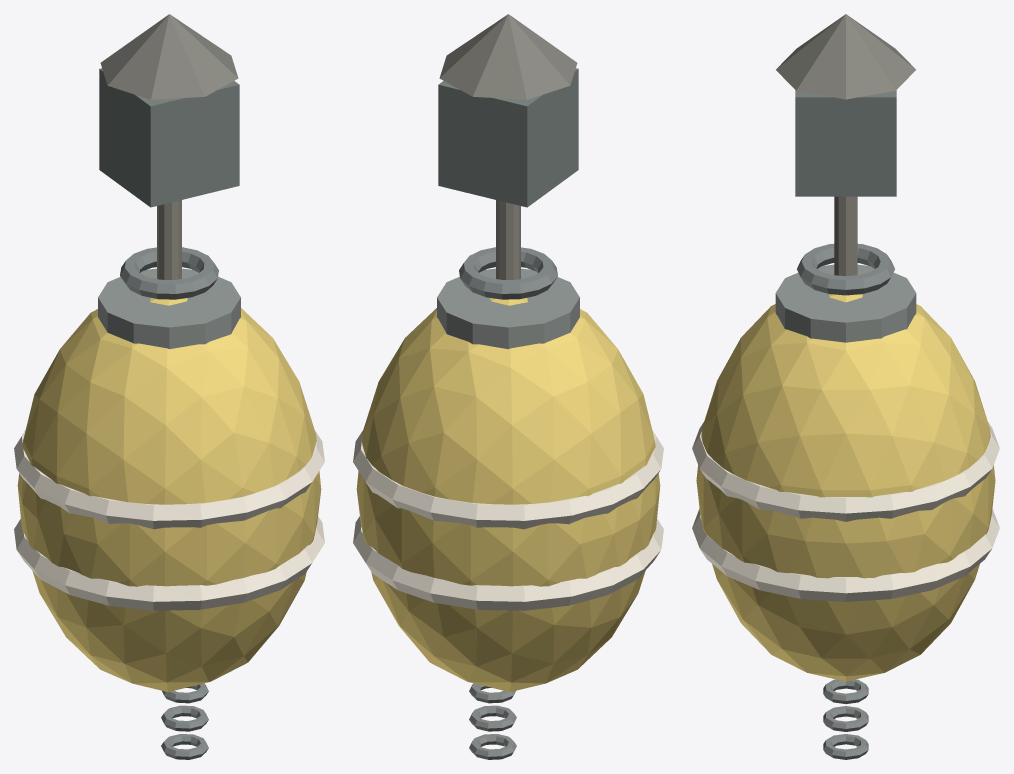
Rendered from buoy_lantern.glb.
3 views of the same model, side by side, from view 1: azimuth 30°, elevation 25°; view 2: azimuth 150°, elevation 25°; view 3: azimuth 270°, elevation 25° (orthographic).
Parts seen in each view (by area): view 1: Buoy_Float, Lantern_Cage, Painted_White_Band_-0.1, Painted_White_Band_0.1, Lantern_Roof, Top_Cap, Lifting_Eye, Lamp_Post, Mooring_Chain_Link_2, Mooring_Chain_Link_3, Mooring_Chain_Link_1; view 2: Buoy_Float, Lantern_Cage, Painted_White_Band_-0.1, Painted_White_Band_0.1, Lantern_Roof, Top_Cap, Lifting_Eye, Lamp_Post, Mooring_Chain_Link_2, Mooring_Chain_Link_3, Mooring_Chain_Link_1; view 3: Buoy_Float, Lantern_Cage, Painted_White_Band_-0.1, Painted_White_Band_0.1, Lantern_Roof, Top_Cap, Lifting_Eye, Lamp_Post, Mooring_Chain_Link_2, Mooring_Chain_Link_3, Mooring_Chain_Link_1.
Part boxes in pixels (left/top/right/bottom): Buoy_Float: left=17, top=298, right=321, bottom=691; Lantern_Cage: left=99, top=68, right=239, bottom=207; Painted_White_Band_-0.1: left=14, top=516, right=324, bottom=610; Painted_White_Band_0.1: left=14, top=430, right=324, bottom=529; Lantern_Roof: left=100, top=14, right=238, bottom=99; Top_Cap: left=98, top=268, right=240, bottom=349; Lifting_Eye: left=120, top=247, right=218, bottom=299; Lamp_Post: left=157, top=200, right=181, bottom=279; Mooring_Chain_Link_2: left=161, top=705, right=208, bottom=731; Mooring_Chain_Link_3: left=161, top=734, right=208, bottom=759; Mooring_Chain_Link_1: left=162, top=683, right=208, bottom=703; Buoy_Float: left=356, top=298, right=660, bottom=691; Lantern_Cage: left=438, top=68, right=578, bottom=207; Painted_White_Band_-0.1: left=353, top=516, right=663, bottom=610; Painted_White_Band_0.1: left=353, top=430, right=663, bottom=529; Lantern_Roof: left=439, top=14, right=577, bottom=99; Top_Cap: left=437, top=268, right=579, bottom=349; Lifting_Eye: left=459, top=247, right=557, bottom=299; Lamp_Post: left=496, top=200, right=520, bottom=279; Mooring_Chain_Link_2: left=469, top=705, right=516, bottom=731; Mooring_Chain_Link_3: left=469, top=734, right=516, bottom=759; Mooring_Chain_Link_1: left=469, top=683, right=515, bottom=703; Buoy_Float: left=696, top=294, right=995, bottom=681; Lantern_Cage: left=795, top=90, right=896, bottom=196; Painted_White_Band_-0.1: left=692, top=508, right=999, bottom=601; Painted_White_Band_0.1: left=692, top=422, right=999, bottom=521; Lantern_Roof: left=776, top=14, right=915, bottom=99; Top_Cap: left=775, top=264, right=916, bottom=342; Lifting_Eye: left=797, top=243, right=894, bottom=295; Lamp_Post: left=834, top=196, right=857, bottom=276; Mooring_Chain_Link_2: left=823, top=706, right=868, bottom=731; Mooring_Chain_Link_3: left=823, top=734, right=868, bottom=759; Mooring_Chain_Link_1: left=823, top=679, right=868, bottom=703.
Size of the model in its own units: 0.7 by 1.83 by 0.7.
